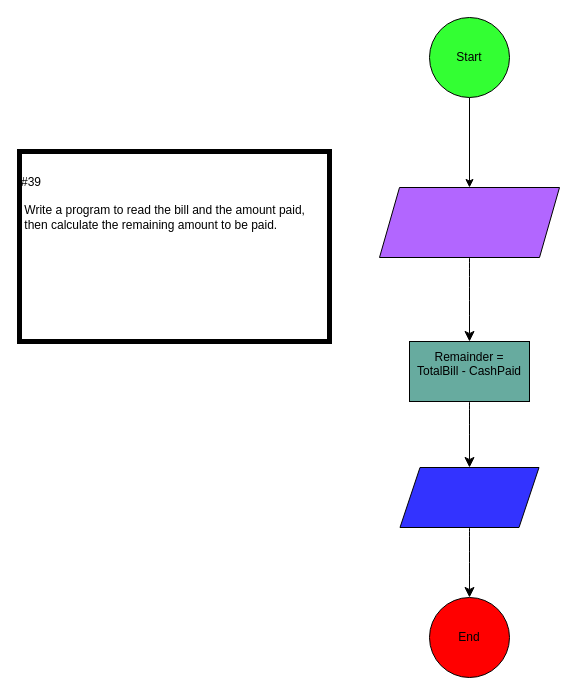
Image size: 577x695. Some labels were removed from this diagram. Each missing label, with the centre of its shape:
Print: Remainder: [469,497]
Read: TotalBill Reas: CashPaid: [469,222]
